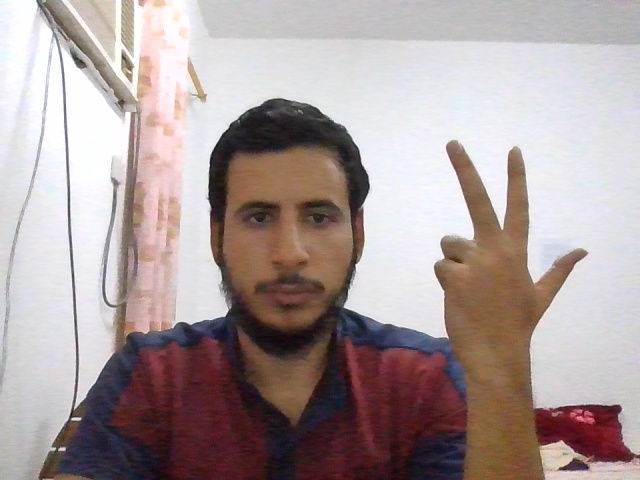Three: (435, 140, 590, 362)
